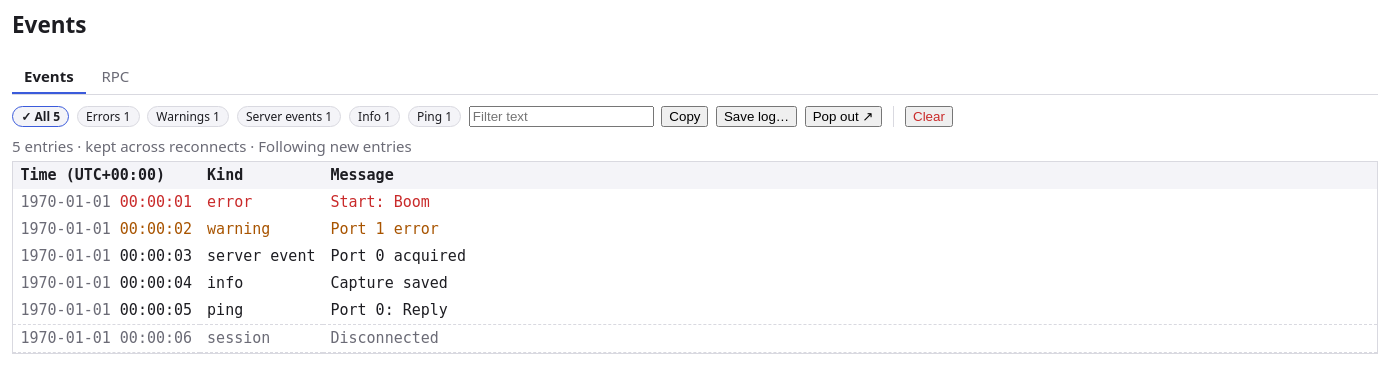
Test: EventsPage › kind chips filter and show counts
The width and height of the screenshot is (1378, 371).
Click the button "Errors 1".
click(108, 117)  # box [77,106,140,127]
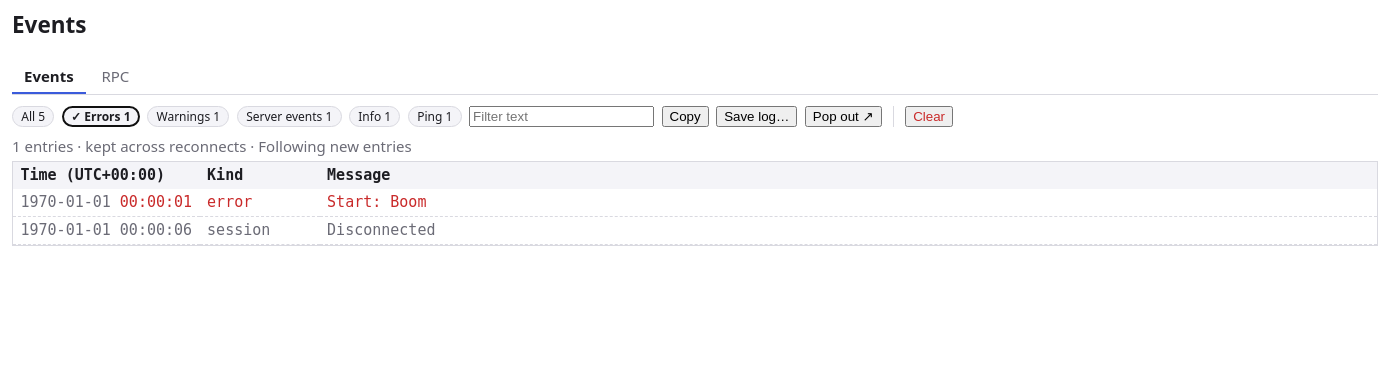
Check: the text "Start: Boom" is shown, box [320,189,1377,217]
Check: the text "Port 1 error" is gone
Check: the text "Disconnected" is shown, box [320,217,1377,245]
Click the button "Warnings 1".
click(188, 117)  # box [147,106,230,127]
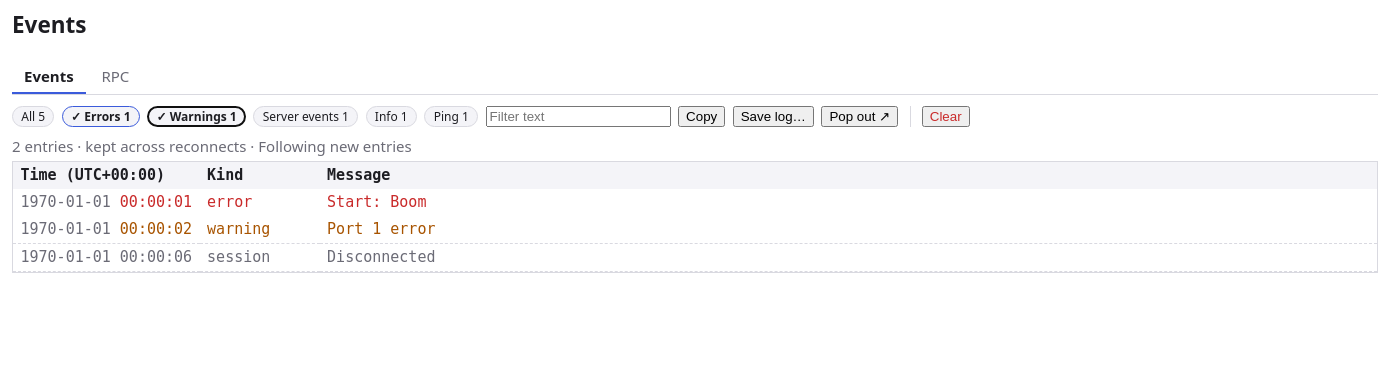
Check: the text "Port 1 error" is shown, box [320,216,1377,244]
Click the button "All 5".
click(33, 117)  # box [12,106,54,127]
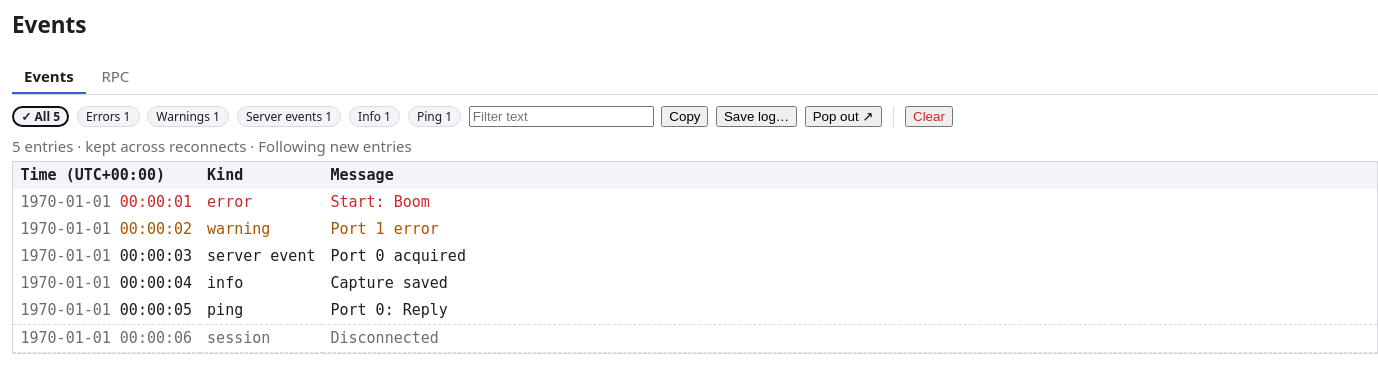
Check: the text "Capture saved" is shown, box [323,270,1377,297]
